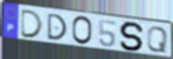5: (98, 18, 116, 48)
D: (19, 8, 45, 39), (46, 13, 68, 42)
O: (71, 15, 93, 46)
Q: (146, 26, 169, 54)
S: (118, 21, 146, 52)
